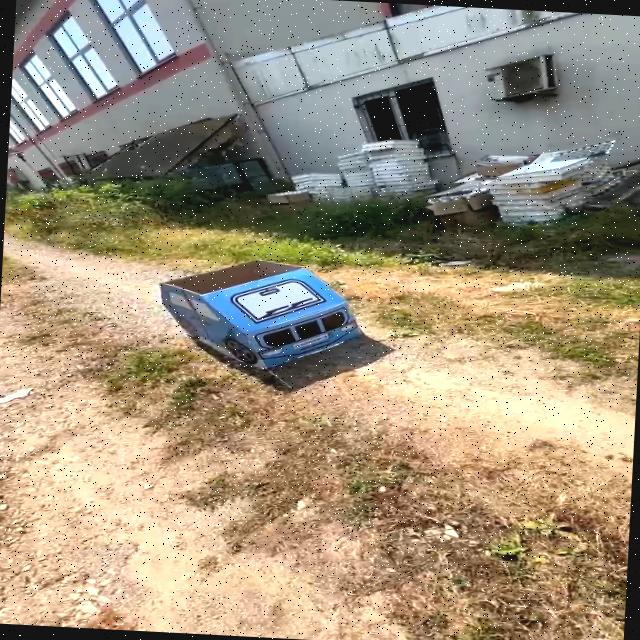blue_car: (144, 236, 388, 395)
